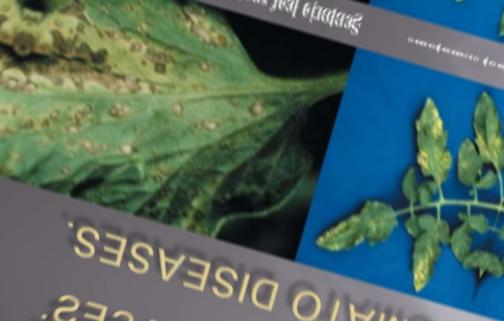Tomato Septoria leaf spot: (0, 0, 341, 252), (309, 176, 407, 275), (395, 96, 474, 192), (393, 202, 460, 300), (438, 83, 504, 175)
